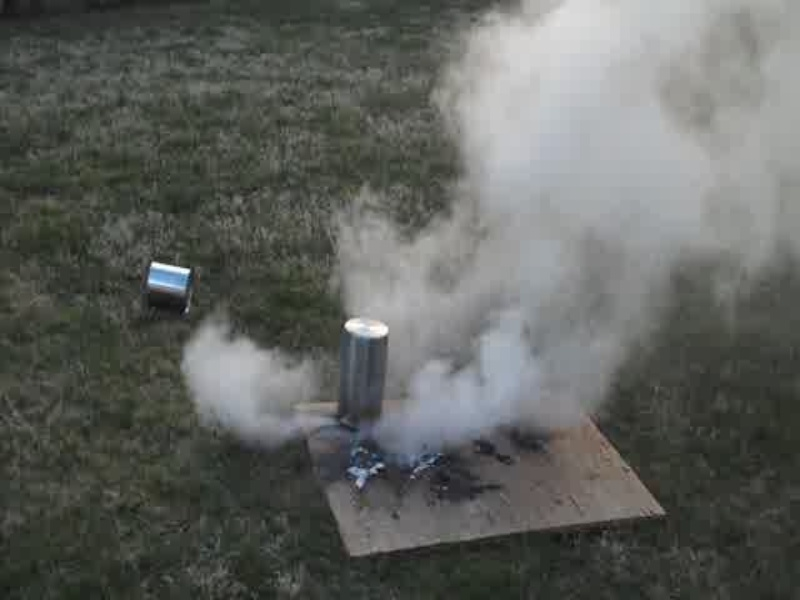smoke: (346, 2, 665, 444)
